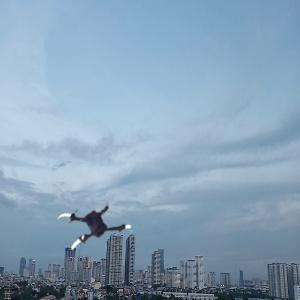drone: (54, 192, 133, 271)
